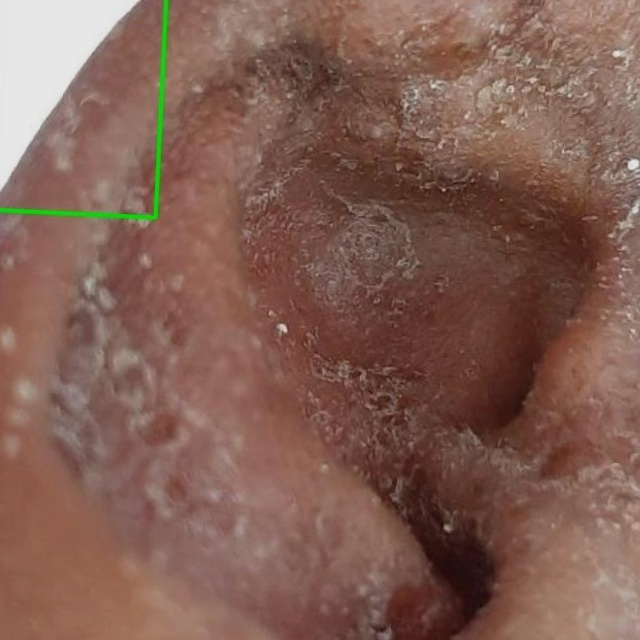Eczema: (0, 0, 166, 217)
